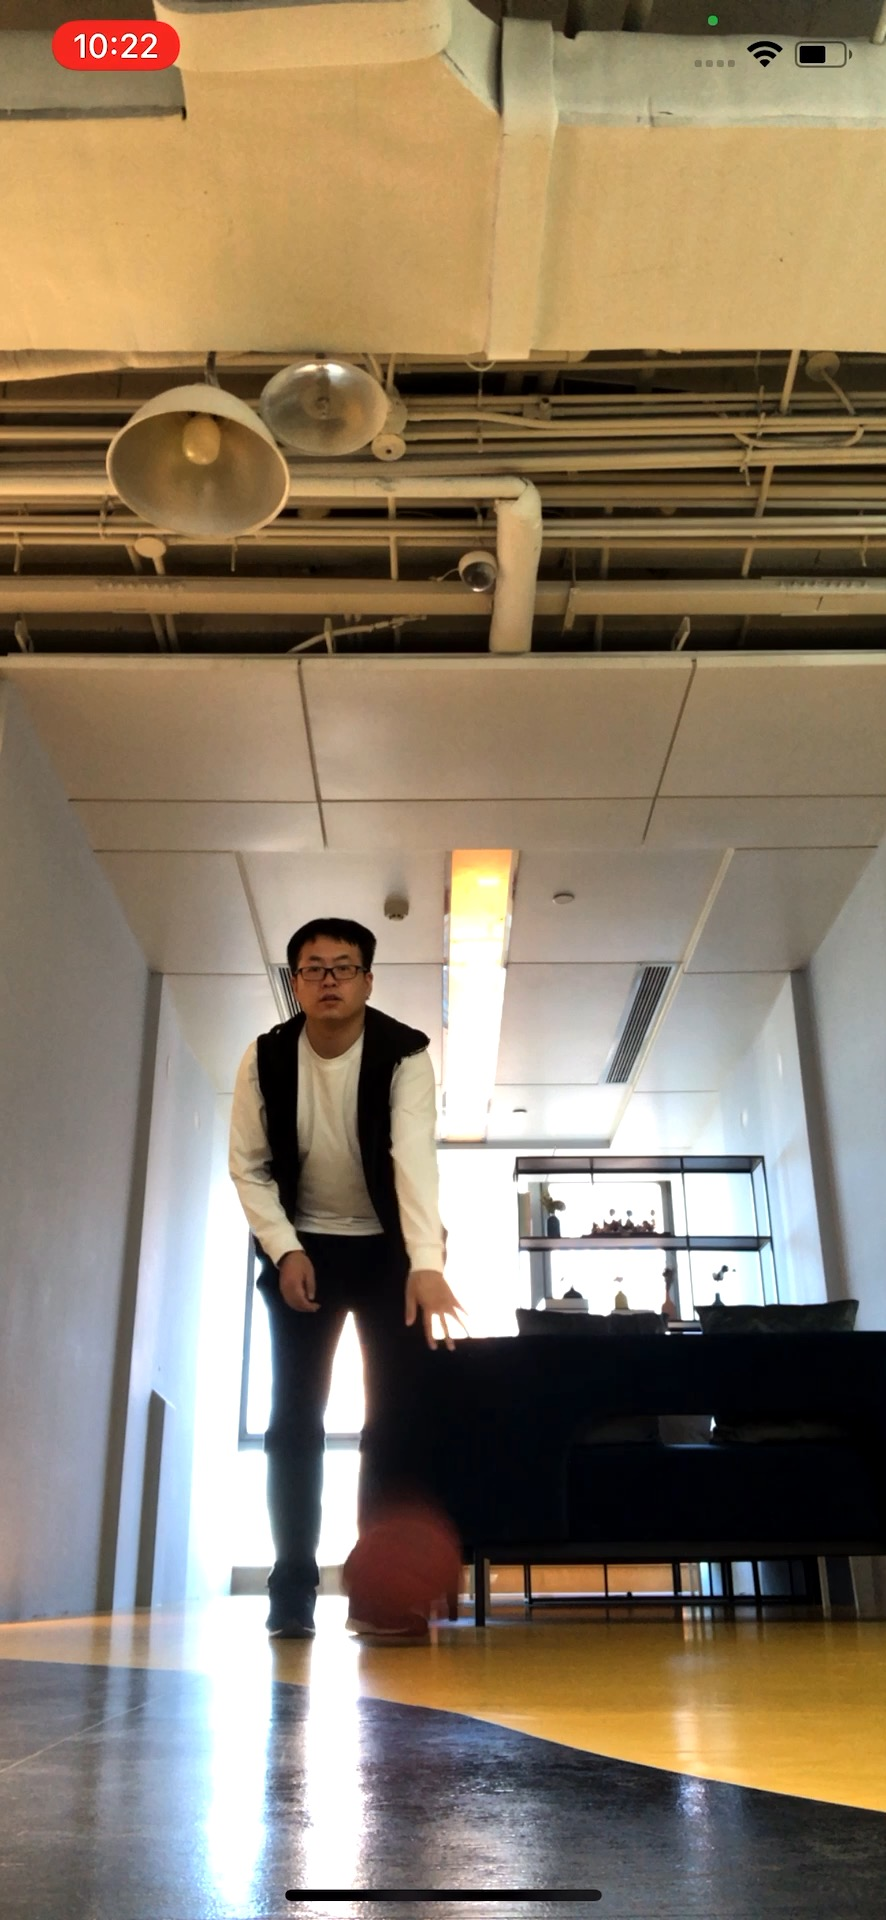ball: (348, 1513, 467, 1631)
